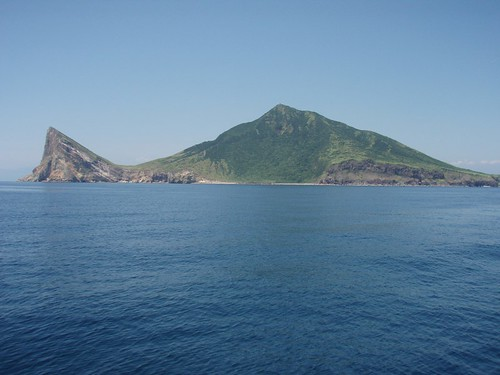turtleIslandLeft: (22, 101, 497, 191)
